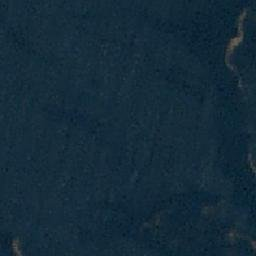debris: (144, 216, 162, 231), (9, 234, 23, 251), (224, 49, 236, 67), (246, 151, 254, 175), (239, 12, 246, 39), (228, 37, 245, 48), (227, 229, 241, 240), (239, 74, 243, 91), (250, 238, 256, 248)
